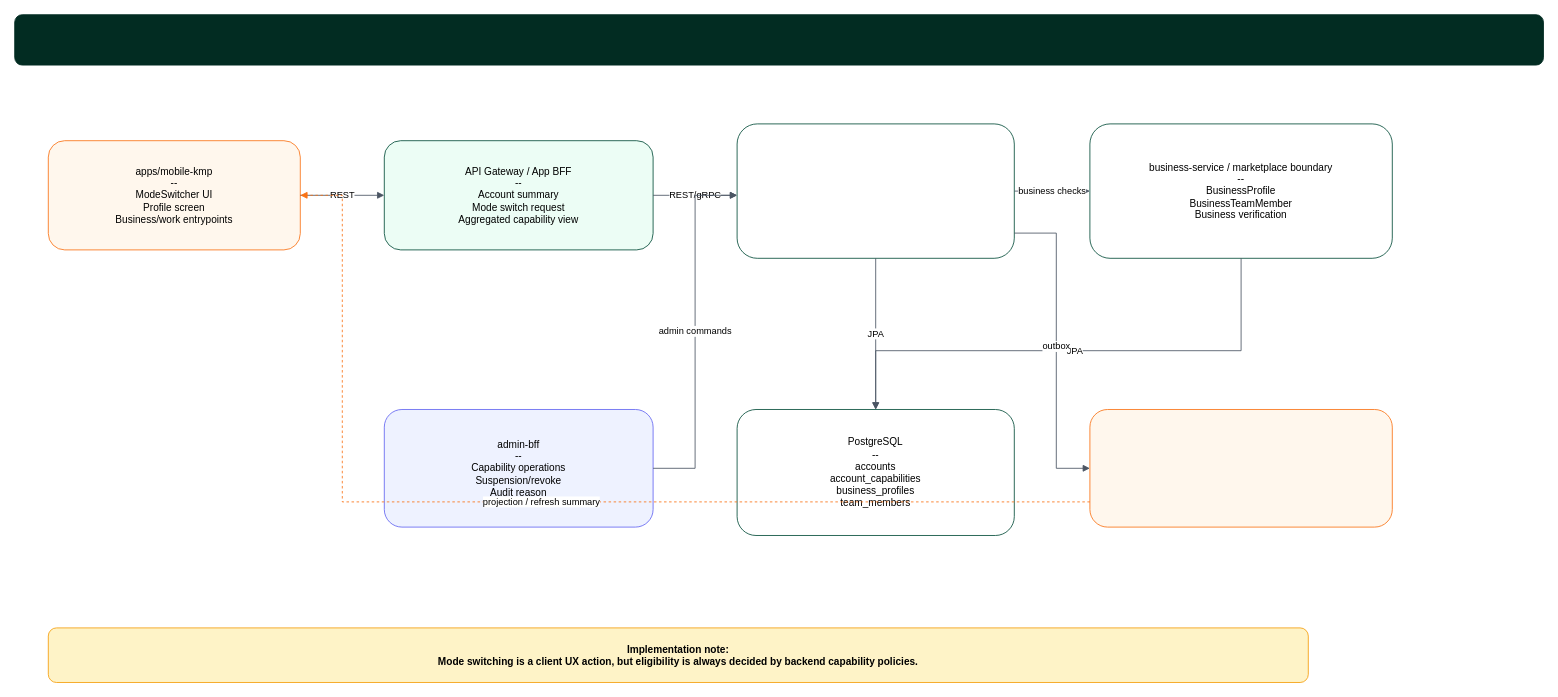
The diagram is 1558 pixels wide and 697 high, and some of its shapes have lost their labels. The shapes that lost their labels are listed below. From the top down, each one's centre as x and y in pixels, then its label:
the point at 779,39: Viaverse Capability — Package / Component Diagram
the point at 875,190: identity-service -- AccountCapability Session mode claim Capability policy
the point at 1240,468: Kafka / Outbox -- CapabilityEnabled CapabilitySuspended ActiveModeChanged
